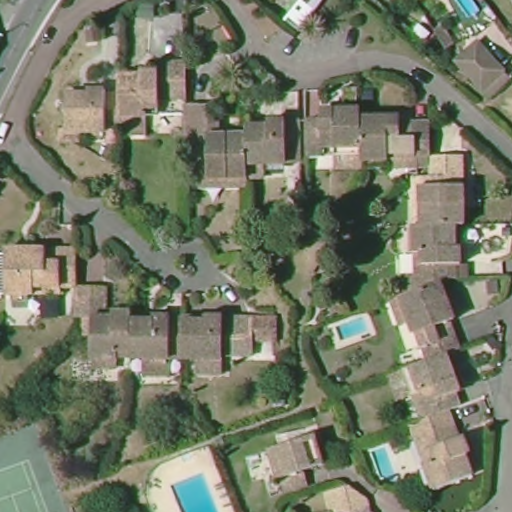pool: (165, 470, 221, 512), (366, 440, 404, 482), (332, 314, 377, 347), (455, 1, 484, 19)
